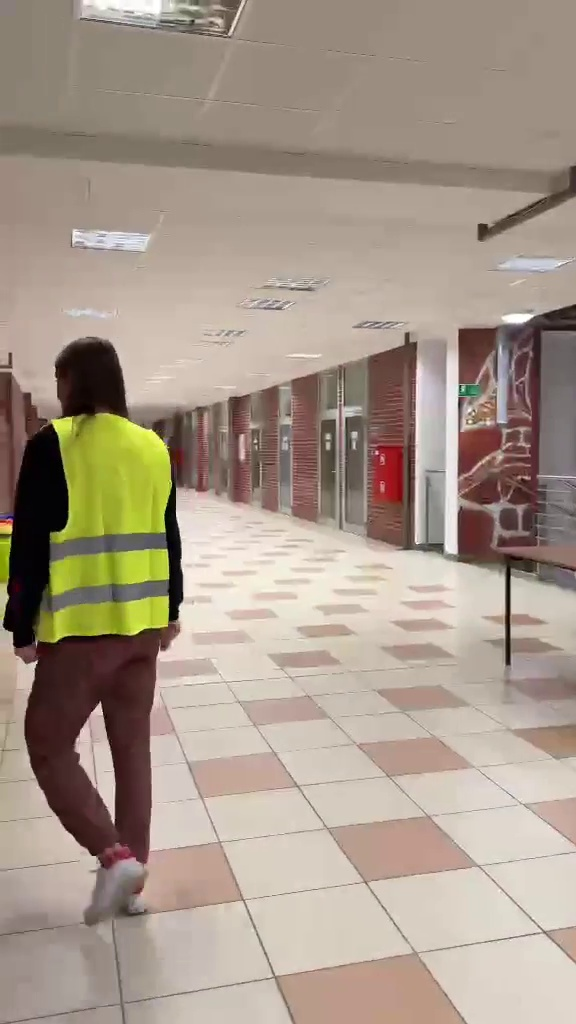vest: (13, 337, 189, 933)
